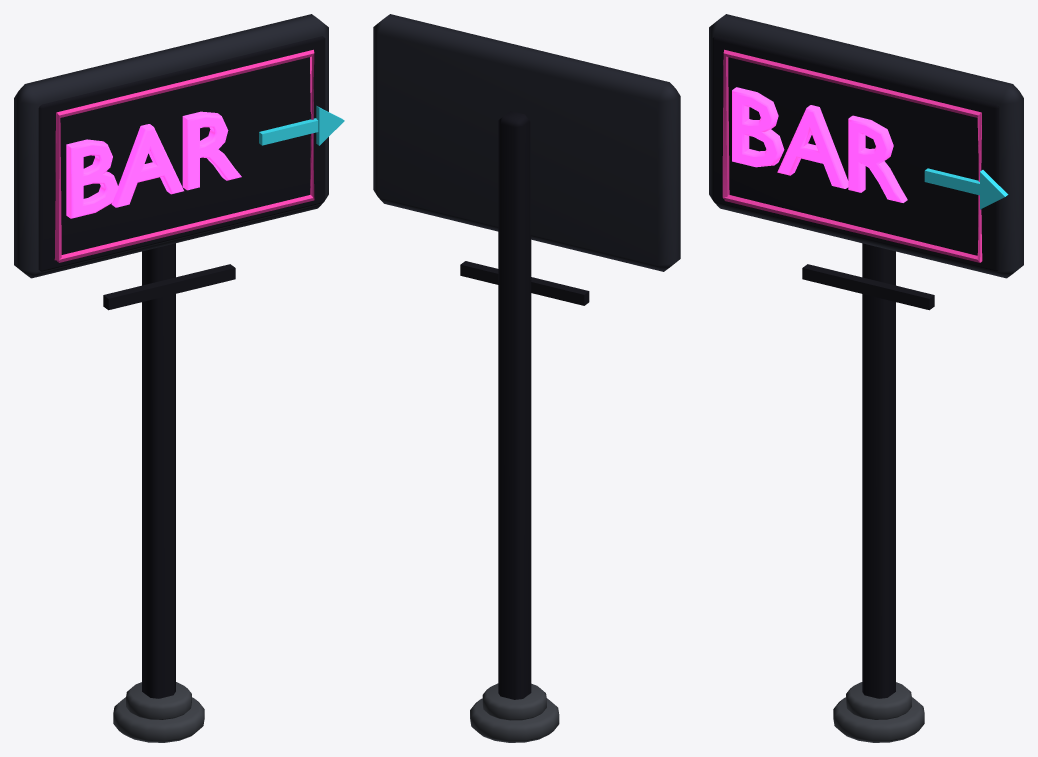
The model's file is neon_street_sign.glb.
3 views of the same model, side by side, from view 1: azimuth 30°, elevation 25°; view 2: azimuth 150°, elevation 25°; view 3: azimuth 330°, elevation 25° (orthographic). The views are drawn at different scales.
Visible parts, largest first — view 1: neon_street_sign; view 2: neon_street_sign; view 3: neon_street_sign.
Part boxes in pixels (left/top/right/bottom): neon_street_sign: left=14, top=14, right=344, bottom=742; neon_street_sign: left=373, top=14, right=680, bottom=742; neon_street_sign: left=709, top=14, right=1023, bottom=742.
Bounding box in the file's own units: 1.71 × 3.6 × 0.51.
